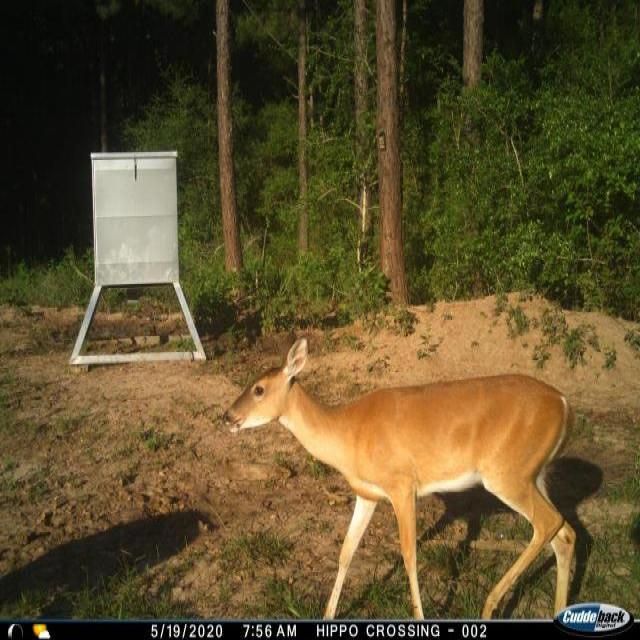deer: (221, 327, 581, 602)
